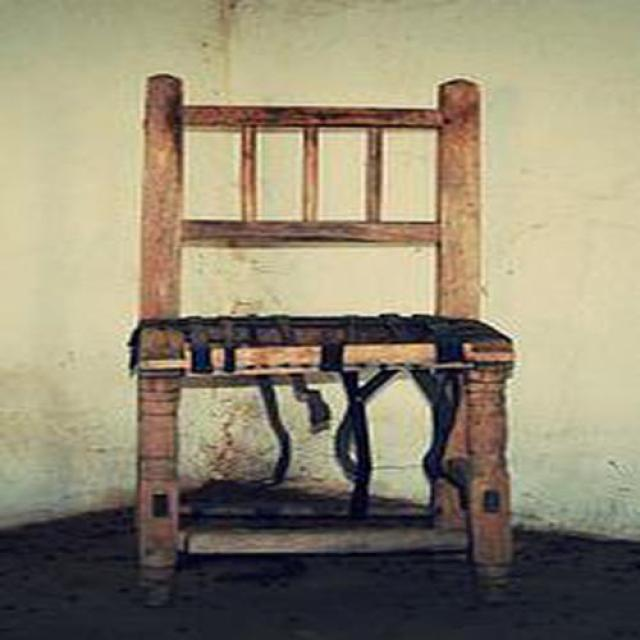chair: (129, 76, 516, 608)
